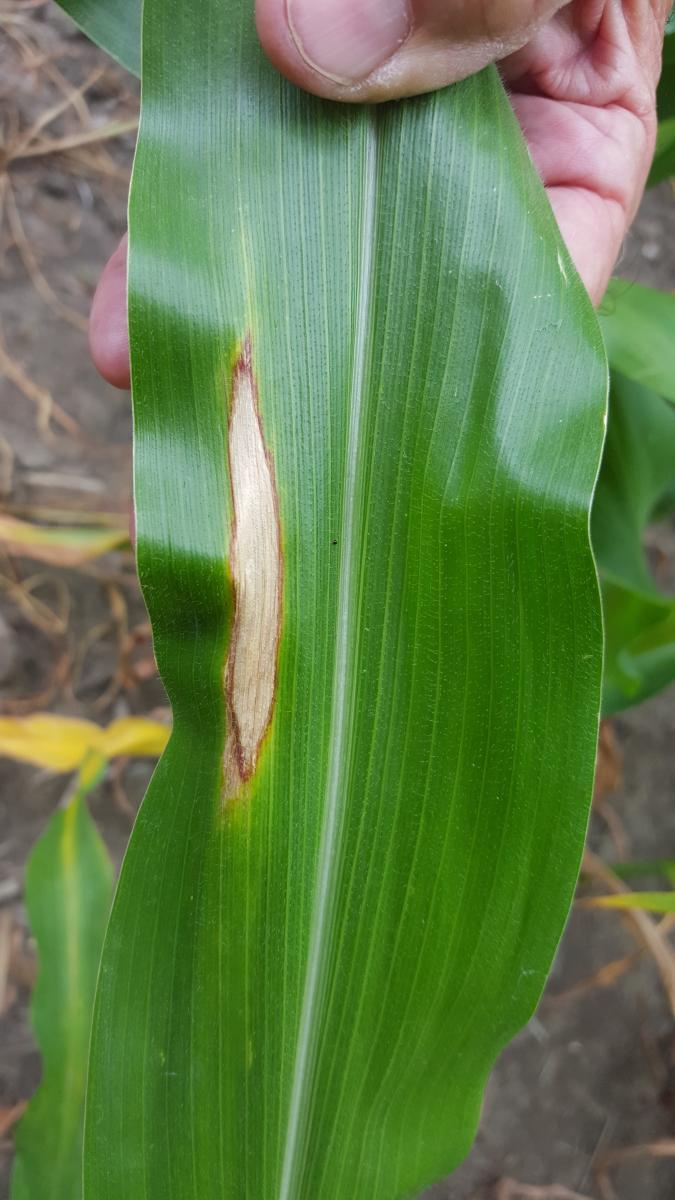Corn leaf blight: (118, 106, 570, 1189)
